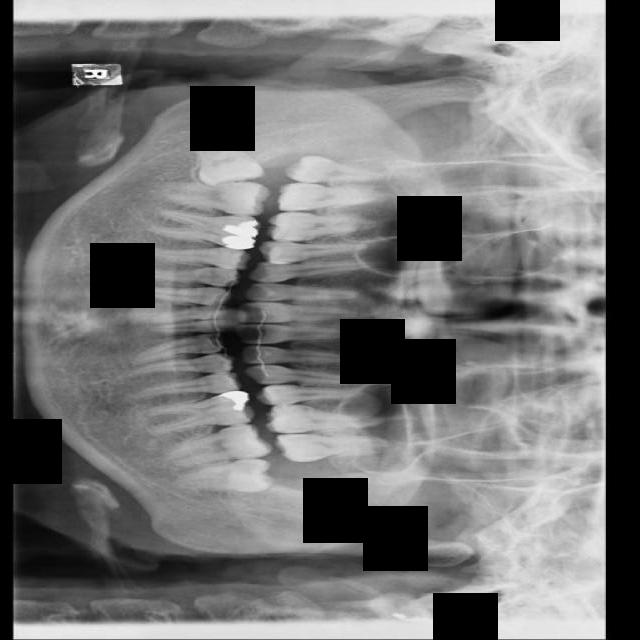3M ESPE Implant: (284, 155, 384, 183)
52: (204, 384, 257, 434), (210, 209, 262, 252)
73: (48, 600, 62, 610)
BioHorizons Implant: (273, 433, 392, 462)
Biomet 3i Implant: (174, 458, 272, 493)
Blue Sky Bio Implant: (163, 419, 273, 470)
Caries: (276, 178, 392, 212)
Implant: (157, 177, 270, 218)
Keystone Dental Implant: (191, 130, 265, 190)
